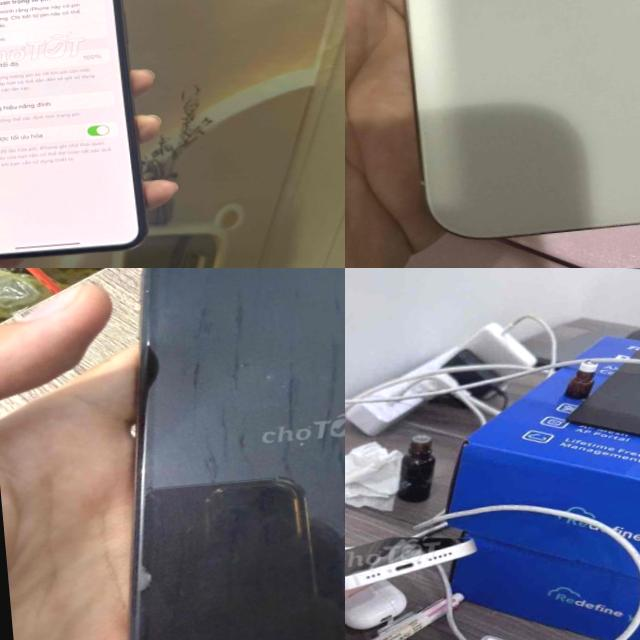physical_damage: (116, 544, 174, 612)
scratch: (126, 268, 177, 373)
